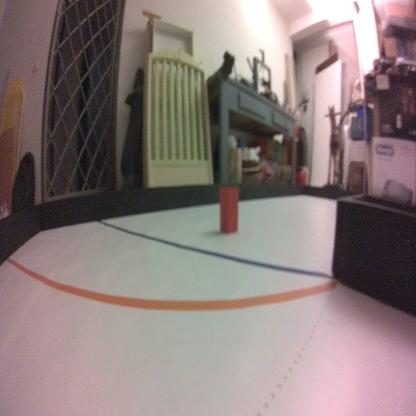red: (218, 184, 239, 234)
